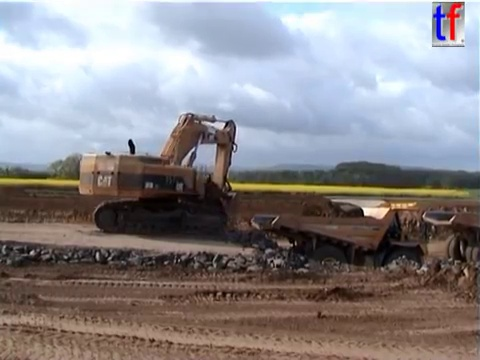excavator: (76, 110, 240, 238)
truck: (248, 200, 435, 287), (420, 208, 480, 273)
